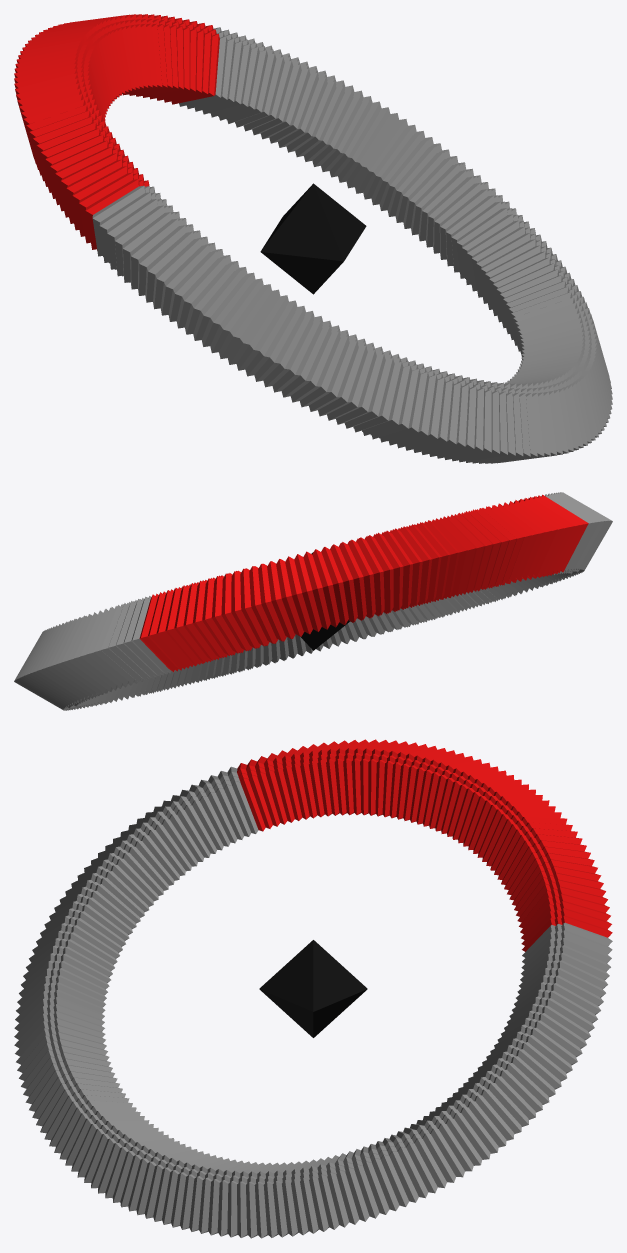
The model's file is local_feasible_centers.obj.
3 renders of one model, top to bottom at view 1: azimuth 30°, elevation 25°; view 2: azimuth 150°, elevation 25°; view 3: azimuth 270°, elevation 25°, orthographic. The views are drawn at different scales.
Parts seen in each view (by area): view 1: rejected_candidates, feasible_candidates, target_point_000046; view 2: feasible_candidates, rejected_candidates, target_point_000046; view 3: rejected_candidates, feasible_candidates, target_point_000046.
Part boxes in pixels (x1=…): rejected_candidates: x1=92, y1=27, x2=612, y2=463; feasible_candidates: x1=14, y1=14, x2=219, y2=250; target_point_000046: x1=260, y1=183, x2=366, y2=294; feasible_candidates: x1=139, y1=494, x2=588, y2=672; rejected_candidates: x1=14, y1=492, x2=612, y2=710; target_point_000046: x1=300, y1=552, x2=349, y2=650; rejected_candidates: x1=14, y1=766, x2=612, y2=1238; feasible_candidates: x1=237, y1=739, x2=612, y2=951; target_point_000046: x1=259, y1=940, x2=367, y2=1037.
Size of the model in its own units: 0.0206 by 0.0128 by 0.0223.
